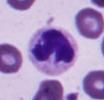N: (27, 26, 78, 75)
